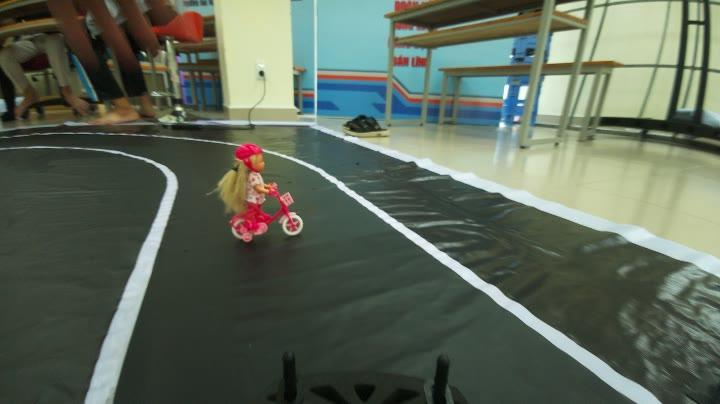pedestrian: (202, 144, 312, 247)
